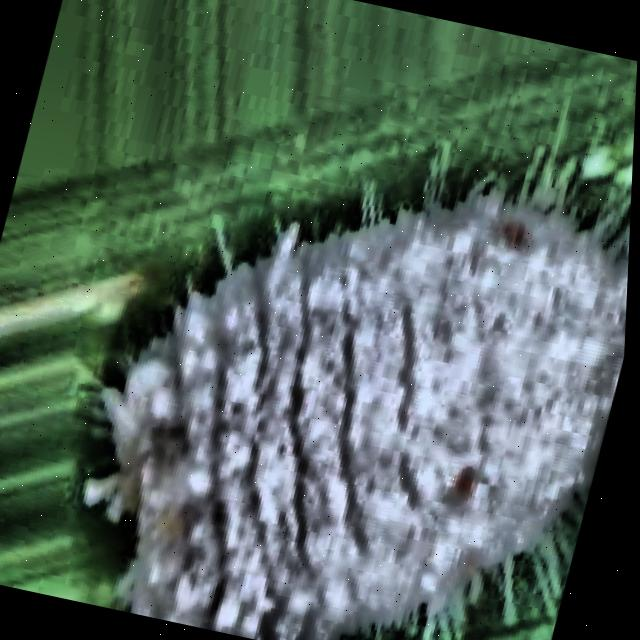Mealy-bug: (0, 31, 639, 640)
